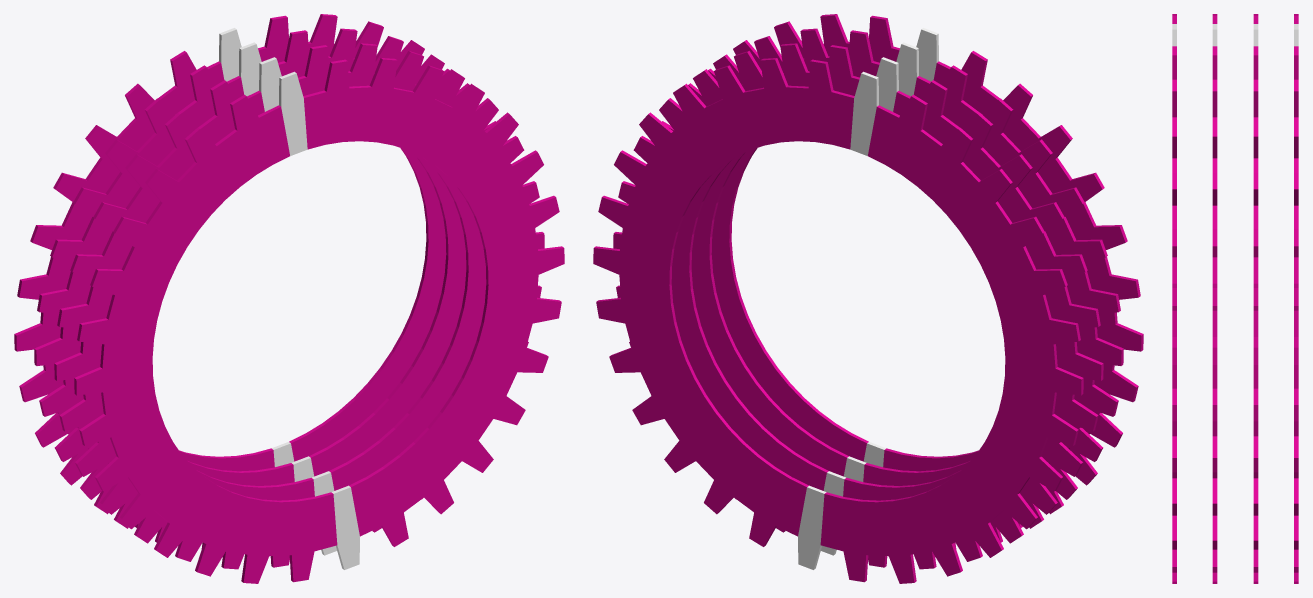
File: 657-clutch pack2.fbx
3 views of the same model, side by side, from view 1: azimuth 30°, elevation 25°; view 2: azimuth 150°, elevation 25°; view 3: azimuth 270°, elevation 25° (orthographic).
Visible parts, largest first — view 1: 657D, 657C, 657B, 657A; view 2: 657A, 657B, 657C, 657D; view 3: 657C, 657B, 657D, 657A.
Boxes of the visible parts, x1,y1,x2,y2 form: 657D: (74, 58, 564, 583); 657C: (54, 43, 544, 569); 657B: (34, 28, 495, 548); 657A: (14, 14, 449, 527); 657A: (593, 58, 1083, 583); 657B: (613, 43, 1103, 569); 657C: (662, 28, 1123, 548); 657D: (708, 14, 1143, 527); 657C: (1212, 14, 1217, 583); 657B: (1253, 14, 1258, 583); 657D: (1172, 14, 1176, 583); 657A: (1294, 14, 1298, 583).
Size of the model in its own units: 1253 by 1252 by 277.
